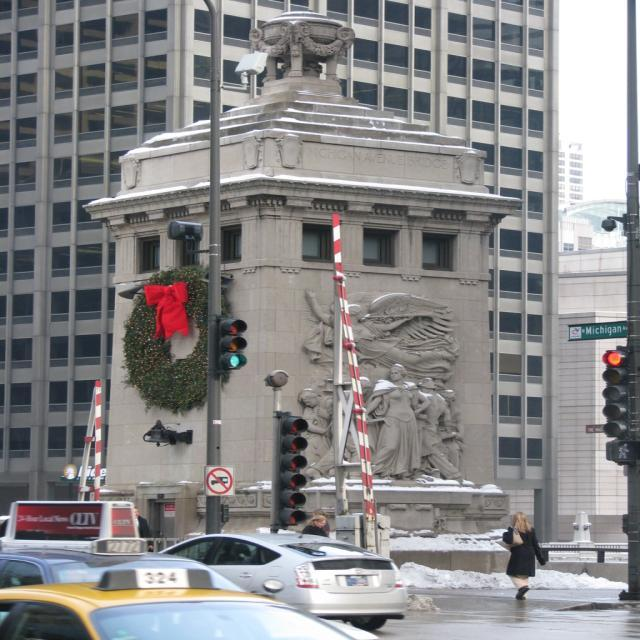traffic light: (603, 348, 630, 439), (217, 316, 247, 371)
